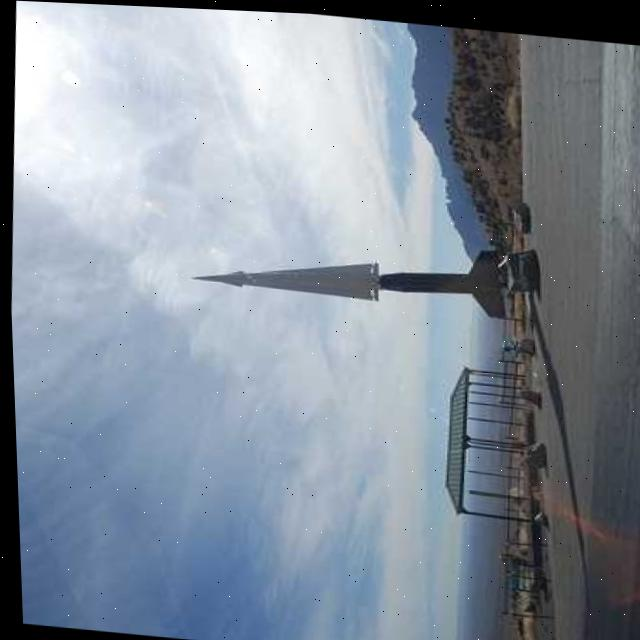missile: (184, 243, 383, 302)
